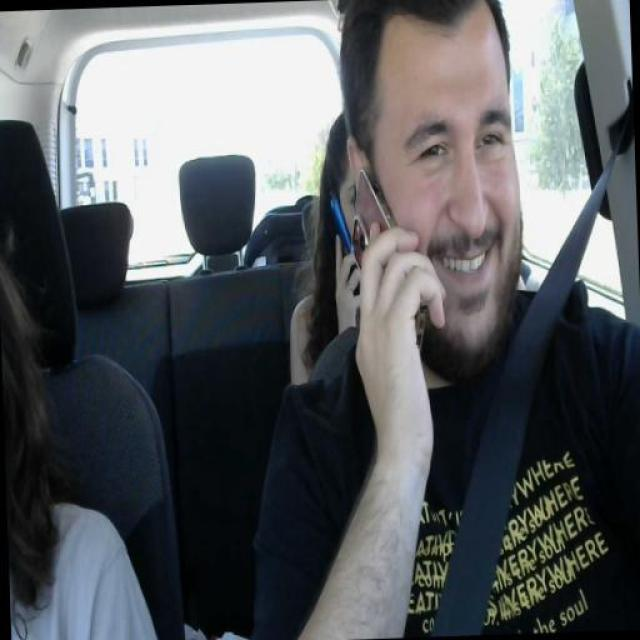phone: (331, 163, 433, 354)
